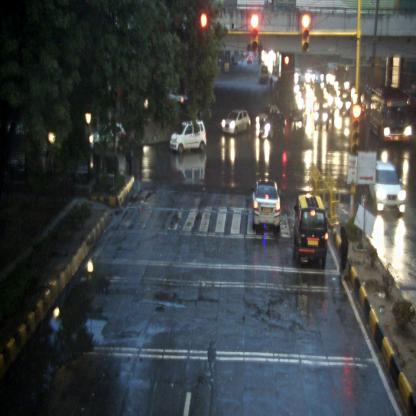bus: (364, 83, 410, 143), (326, 61, 350, 91)
car: (294, 195, 327, 270), (370, 160, 407, 216), (250, 179, 282, 233), (170, 119, 206, 154), (256, 113, 285, 140), (223, 110, 251, 136)
